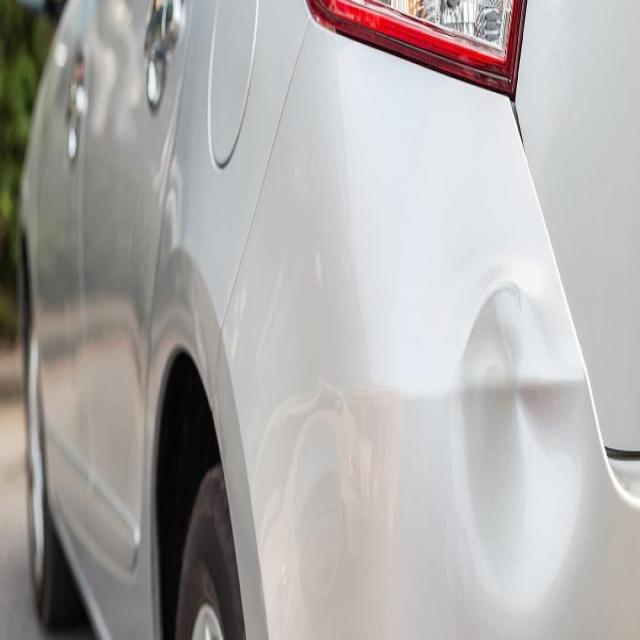dent: (450, 274, 593, 624)
